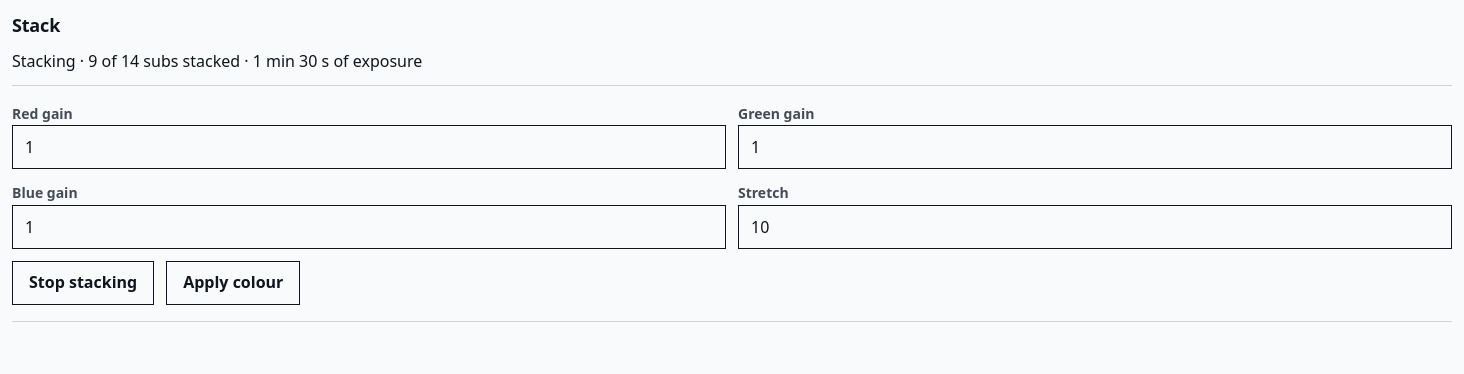
Scenario: US9-S5: colour settings › shows a refused colour change and calls no onChange
Click the button "Apply colour".
click(233, 283)  # box [166, 261, 300, 305]
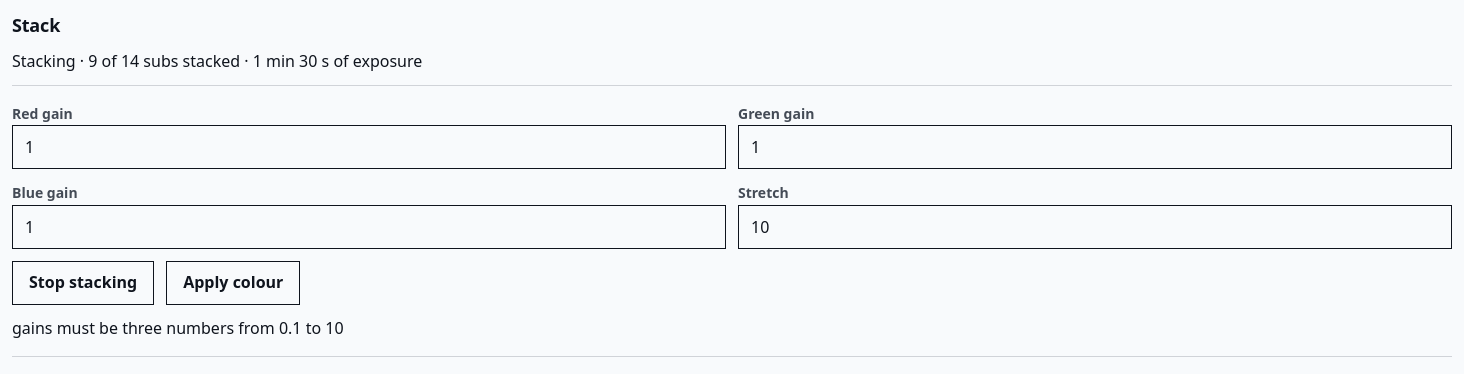
Now the message "gains must be three numbers from 0.1 to 10" is shown, box [12, 317, 344, 339]
